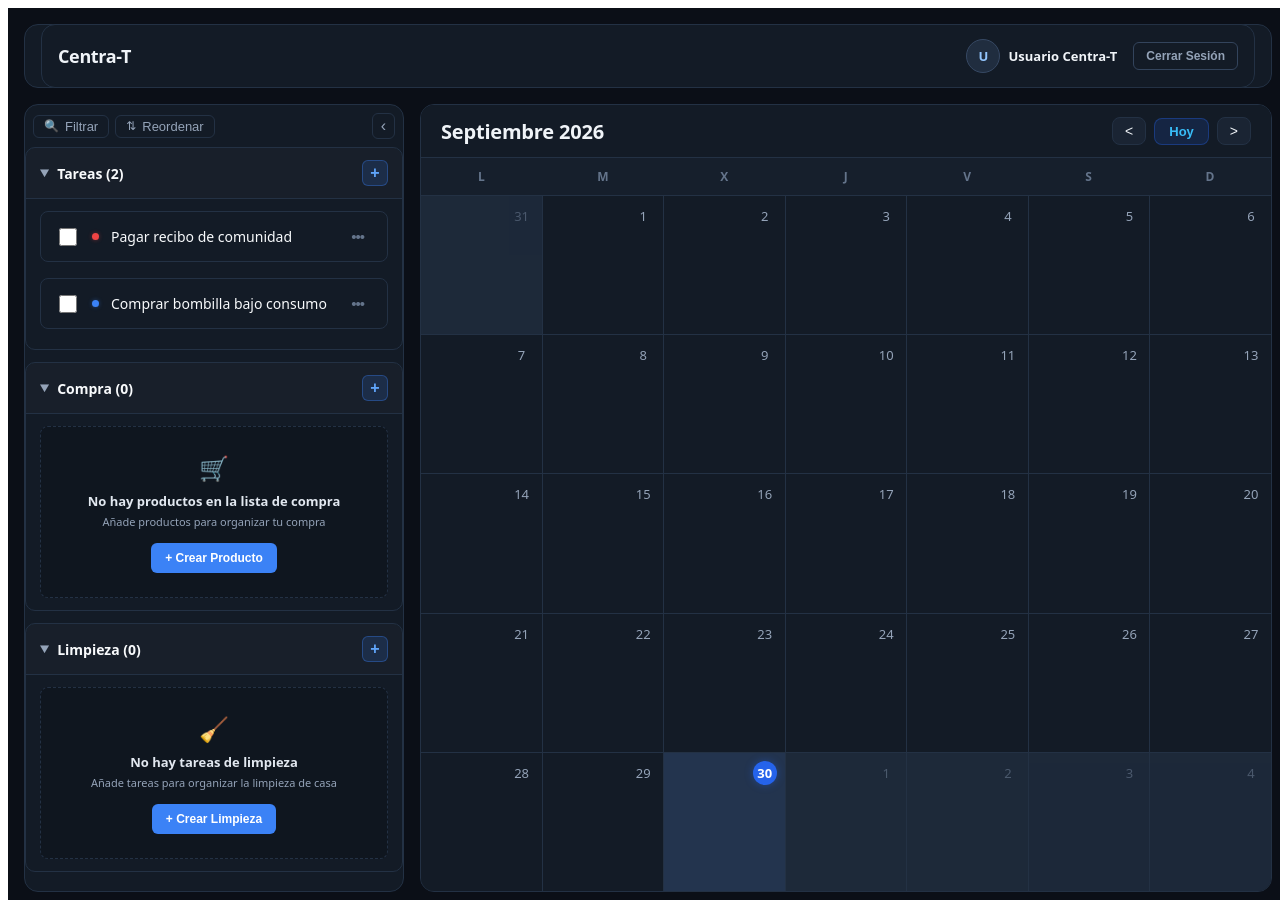
Test case: App Root Integration - Filtrado Reactivo y Reordenación en Caliente (RV-A06) › Resiliencia y Rollback Optimista con Toast Empático (RV-A08 / FIA-A08.02) › [Rollback Optimista]: Marcar una tarea con fallo 500 revierte el checkbox al estado original y muestra Toast empático con 3 componentes
The image size is (1280, 900).
# Clic para conmutar la tarea con fallo 500 simulado
What coordinates should you click on to do the following:
click the checkbox named "completar tarea pagar recibo de comunidad"
I would click on:
 (68, 236)
Its box is [59,228,77,246].
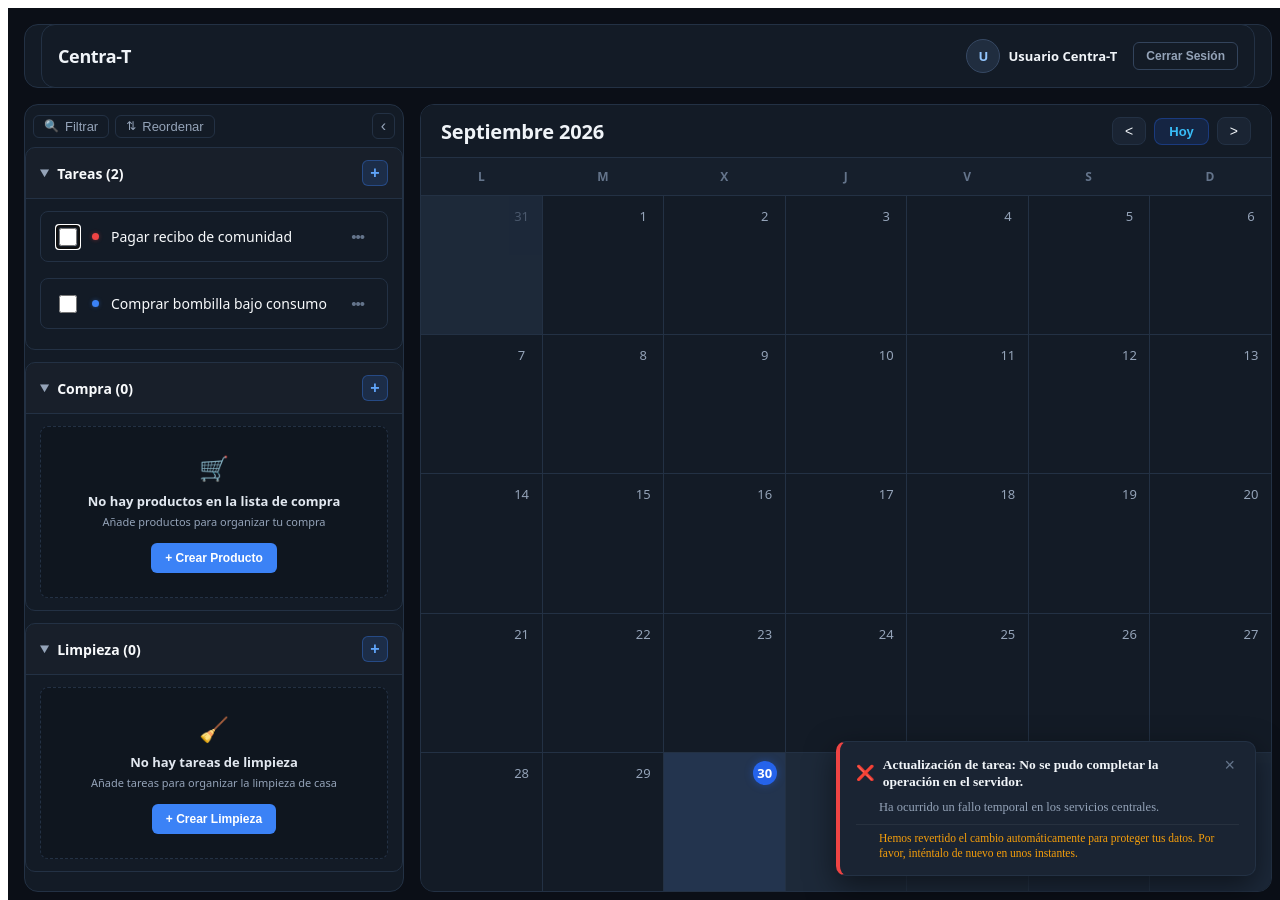
Result: the message is shown at [836,740,1256,876]
Result: the text with test id "toast-what" reads "Actualización de tarea: No se pudo completar la operación en el servidor." at [883,756,1159,789]
Result: the text with test id "toast-why" reads "Ha ocurrido un fallo temporal en los servicios centrales." at [879,800,1159,814]
